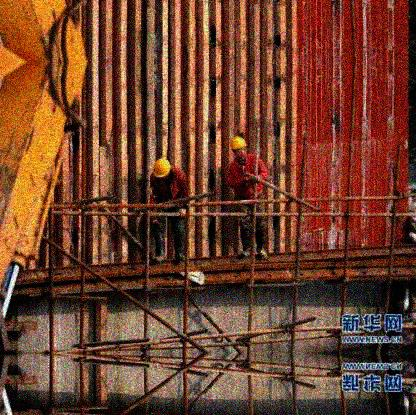helmet: (151, 156, 175, 183), (229, 134, 248, 160)
